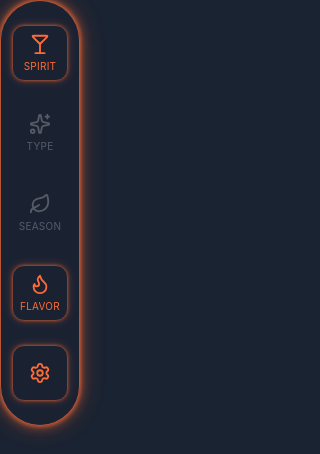
Test: TagRail › settings flyout › opening a tag-group flyout while Settings is open closes Settings, and vice versa
The image size is (320, 454).
Click the button "Spirit" at (40,53), box 12,25 -> 68,81
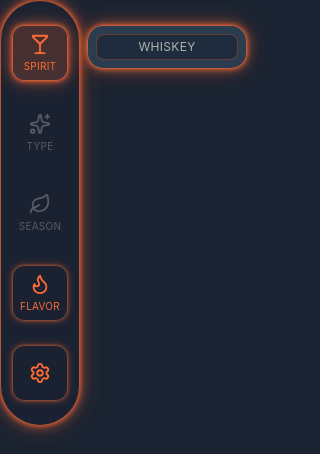
Now the button "Whiskey" is shown, box 96,34 -> 238,60
Click the button named "Settings" at (40,373), box 12,345 -> 68,401
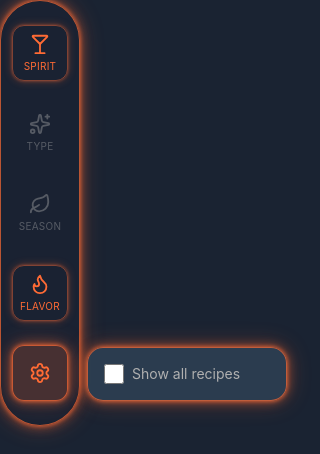
Now the button "Whiskey" is gone
Now the checkbox labelled "Show all recipes" is shown, box 104,364 -> 124,384
Click the button "Spirit" at (40,53), box 12,25 -> 68,81
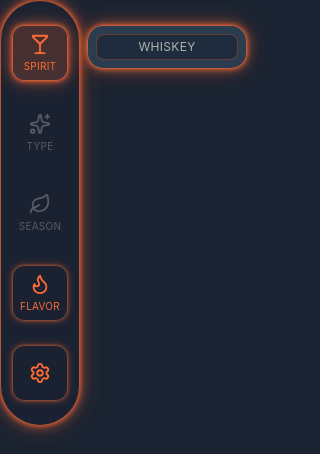
Now the button "Whiskey" is shown, box 96,34 -> 238,60
Now the label labelled "Show all recipes" is gone
